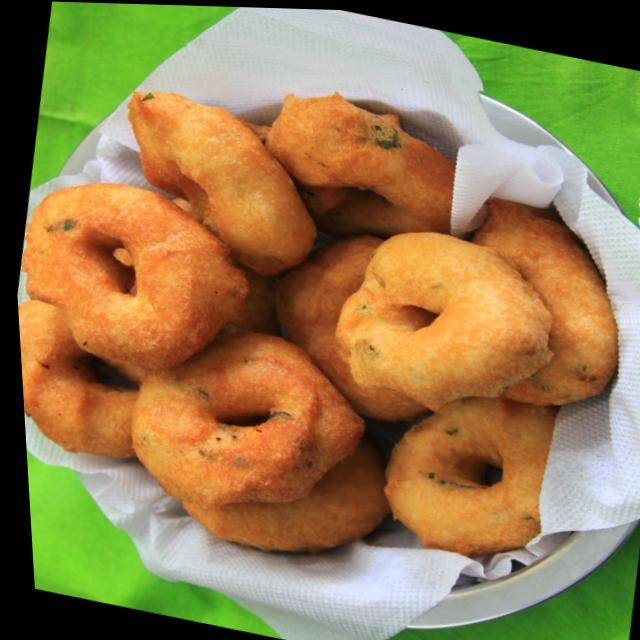VADA: (18, 90, 614, 551)
